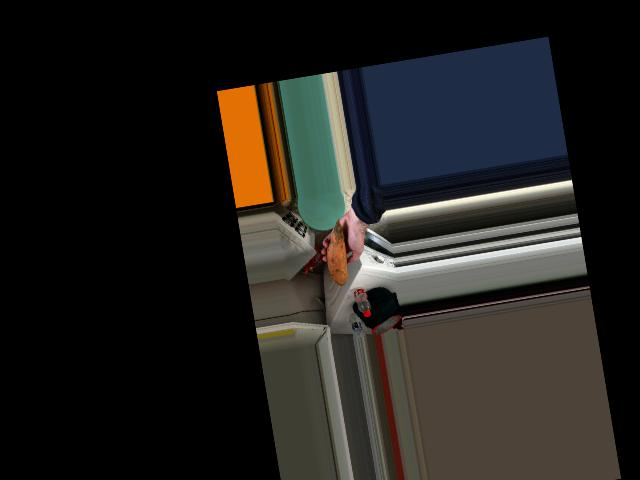sweet_potato: (321, 222, 351, 281)
